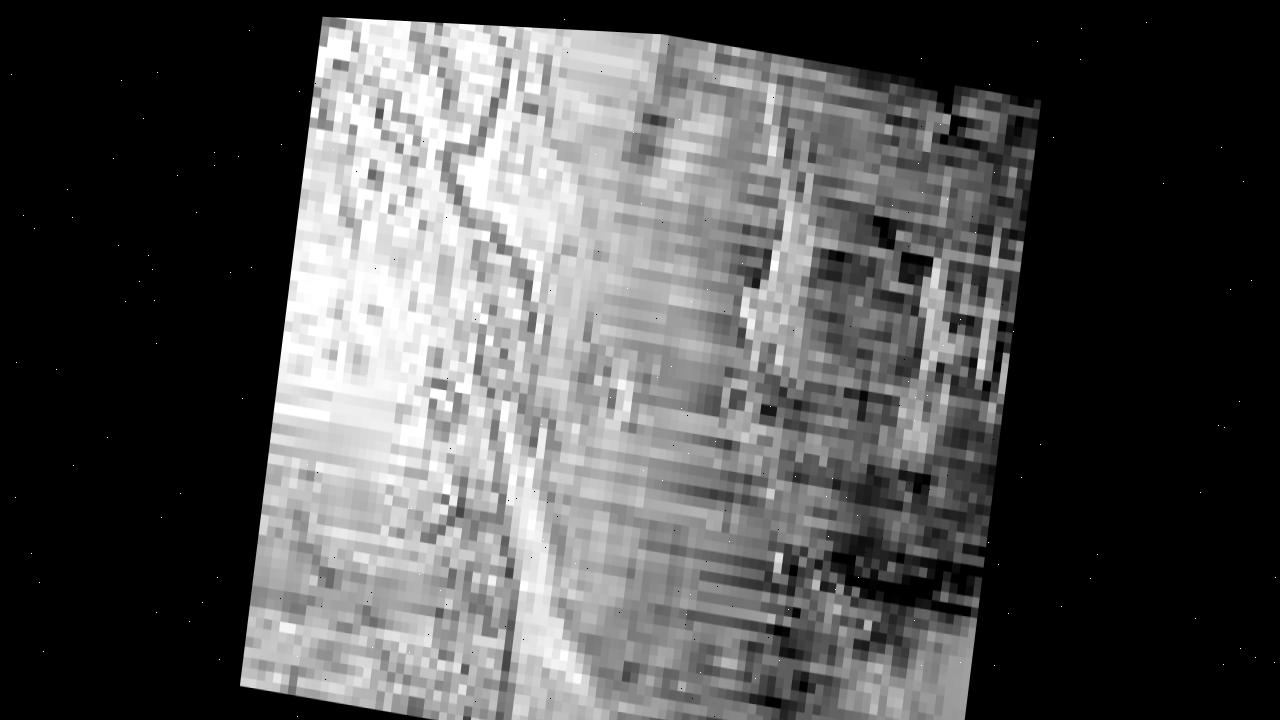drinks Stains: (239, 10, 1041, 720)
